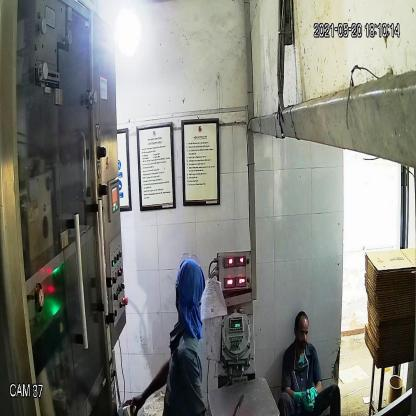no_goggles: (291, 324, 310, 342)
